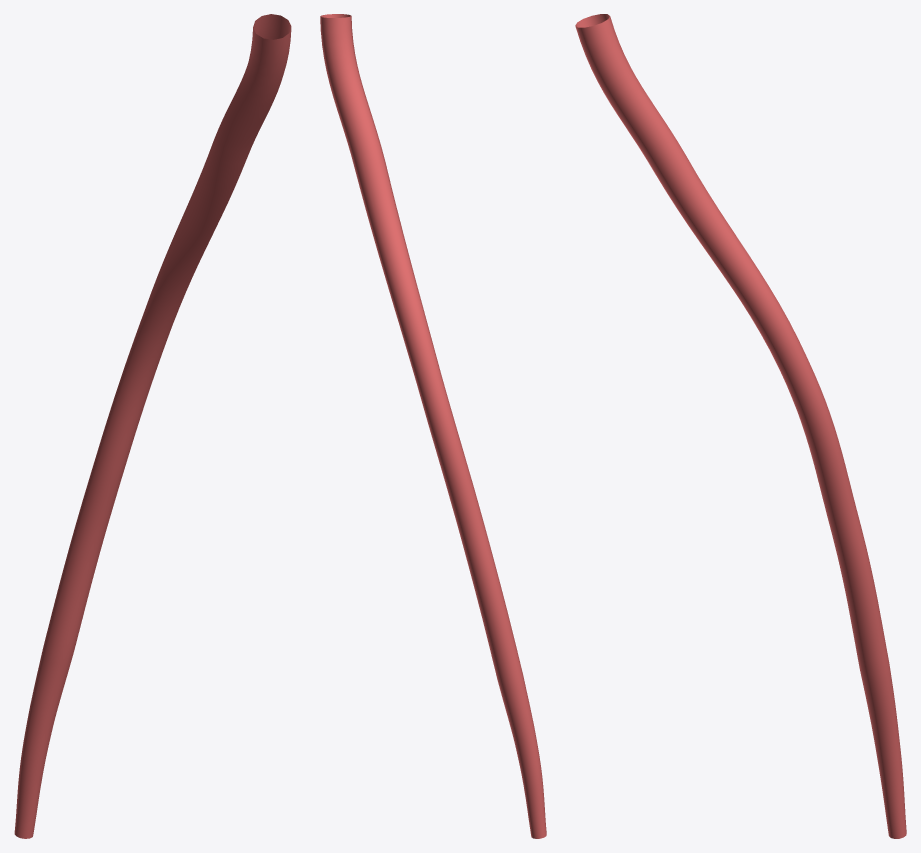
Rendered from Thoracodorsal_artery.r_BezierCurve.158.glb.
3 renders of one model, left to right at view 1: azimuth 30°, elevation 25°; view 2: azimuth 210°, elevation 25°; view 3: azimuth 270°, elevation 25°, orthographic. The views are drawn at different scales.
Parts seen in each view (by area): view 1: Thoracodorsal_artery.r_BezierCurve.158; view 2: Thoracodorsal_artery.r_BezierCurve.158; view 3: Thoracodorsal_artery.r_BezierCurve.158.
Part boxes in pixels (bbox=[...]): Thoracodorsal_artery.r_BezierCurve.158: bbox=[14, 14, 291, 838]; Thoracodorsal_artery.r_BezierCurve.158: bbox=[320, 14, 546, 838]; Thoracodorsal_artery.r_BezierCurve.158: bbox=[575, 14, 906, 838].
Bounding box in the file's own units: 0.0104 × 0.0784 × 0.0274.
